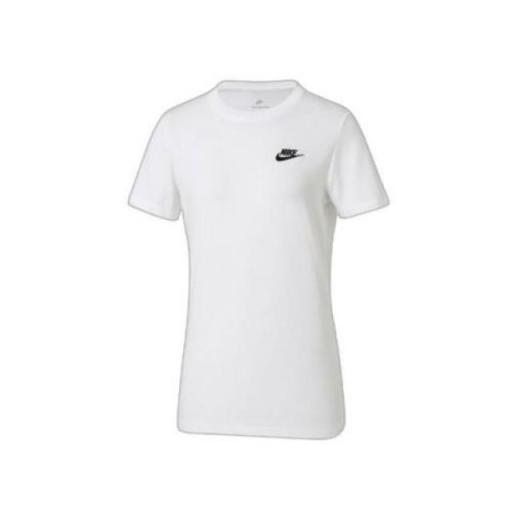Nike: (276, 154, 297, 161), (279, 148, 299, 155)
